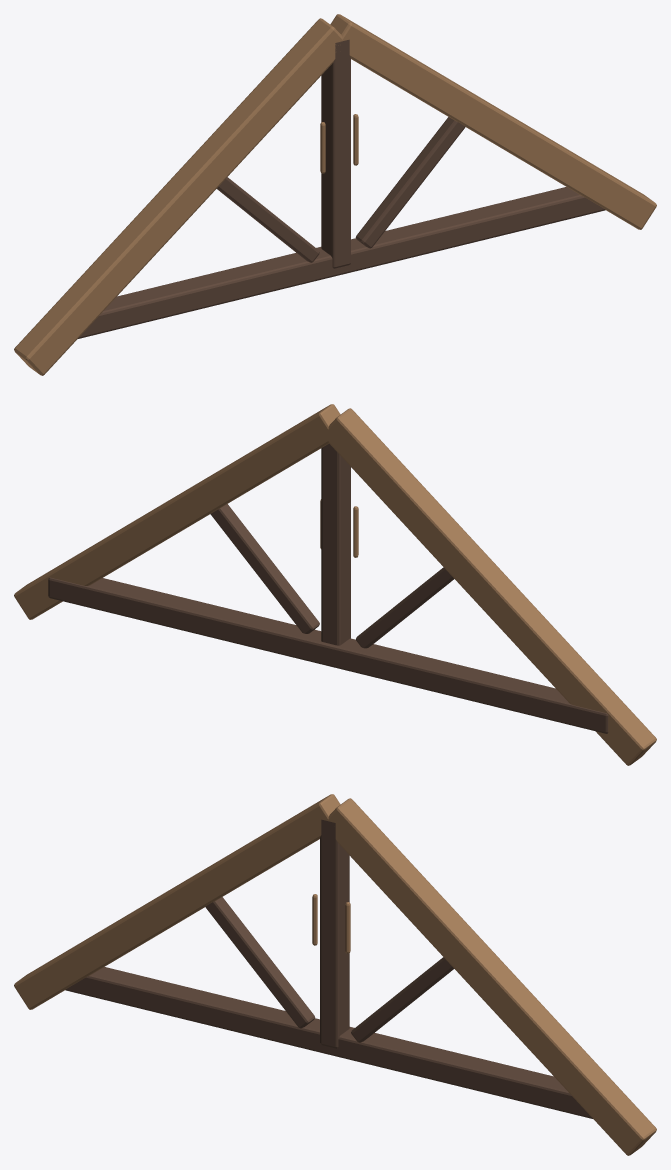
File: gable_end_4m__structure.glb
3 renders of one model, top to bottom at view 1: azimuth 30°, elevation 25°; view 2: azimuth 150°, elevation 25°; view 3: azimuth 330°, elevation 25°, orthographic.
Parts seen in each view (by area): view 1: gable_end_4m__structure__mesh_00; view 2: gable_end_4m__structure__mesh_00; view 3: gable_end_4m__structure__mesh_00.
Part boxes in pixels (<box>): gable_end_4m__structure__mesh_00: <box>14,14,656,375</box>; gable_end_4m__structure__mesh_00: <box>14,404,656,765</box>; gable_end_4m__structure__mesh_00: <box>14,794,656,1155</box>.
Size of the model in its own units: 4.61 by 1.94 by 0.19.
